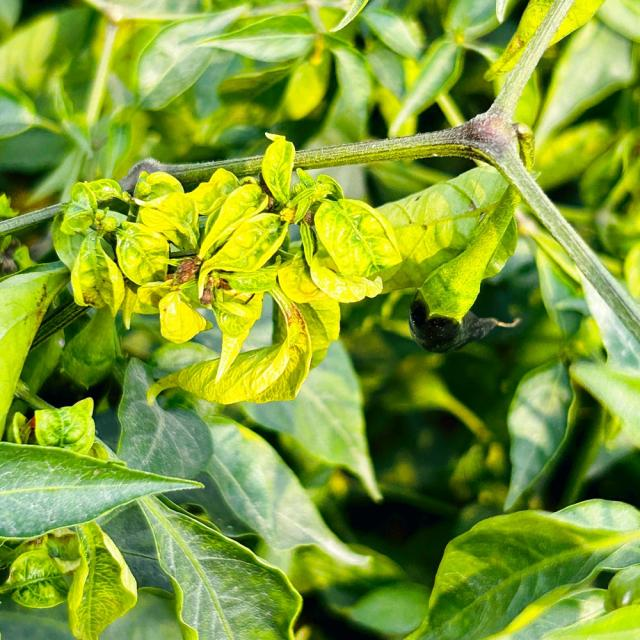Chilli_Leaf_Curl: (1, 0, 638, 638), (50, 131, 521, 407), (1, 397, 303, 638), (312, 162, 522, 352), (404, 497, 639, 638), (0, 437, 205, 540), (312, 196, 402, 280)
